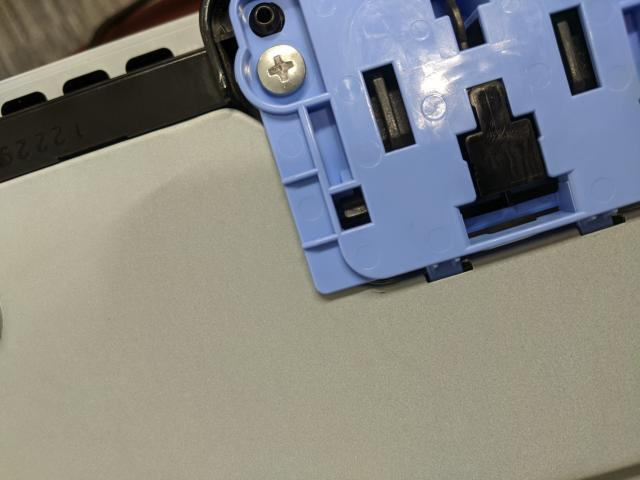CRS: (256, 45, 309, 97)
